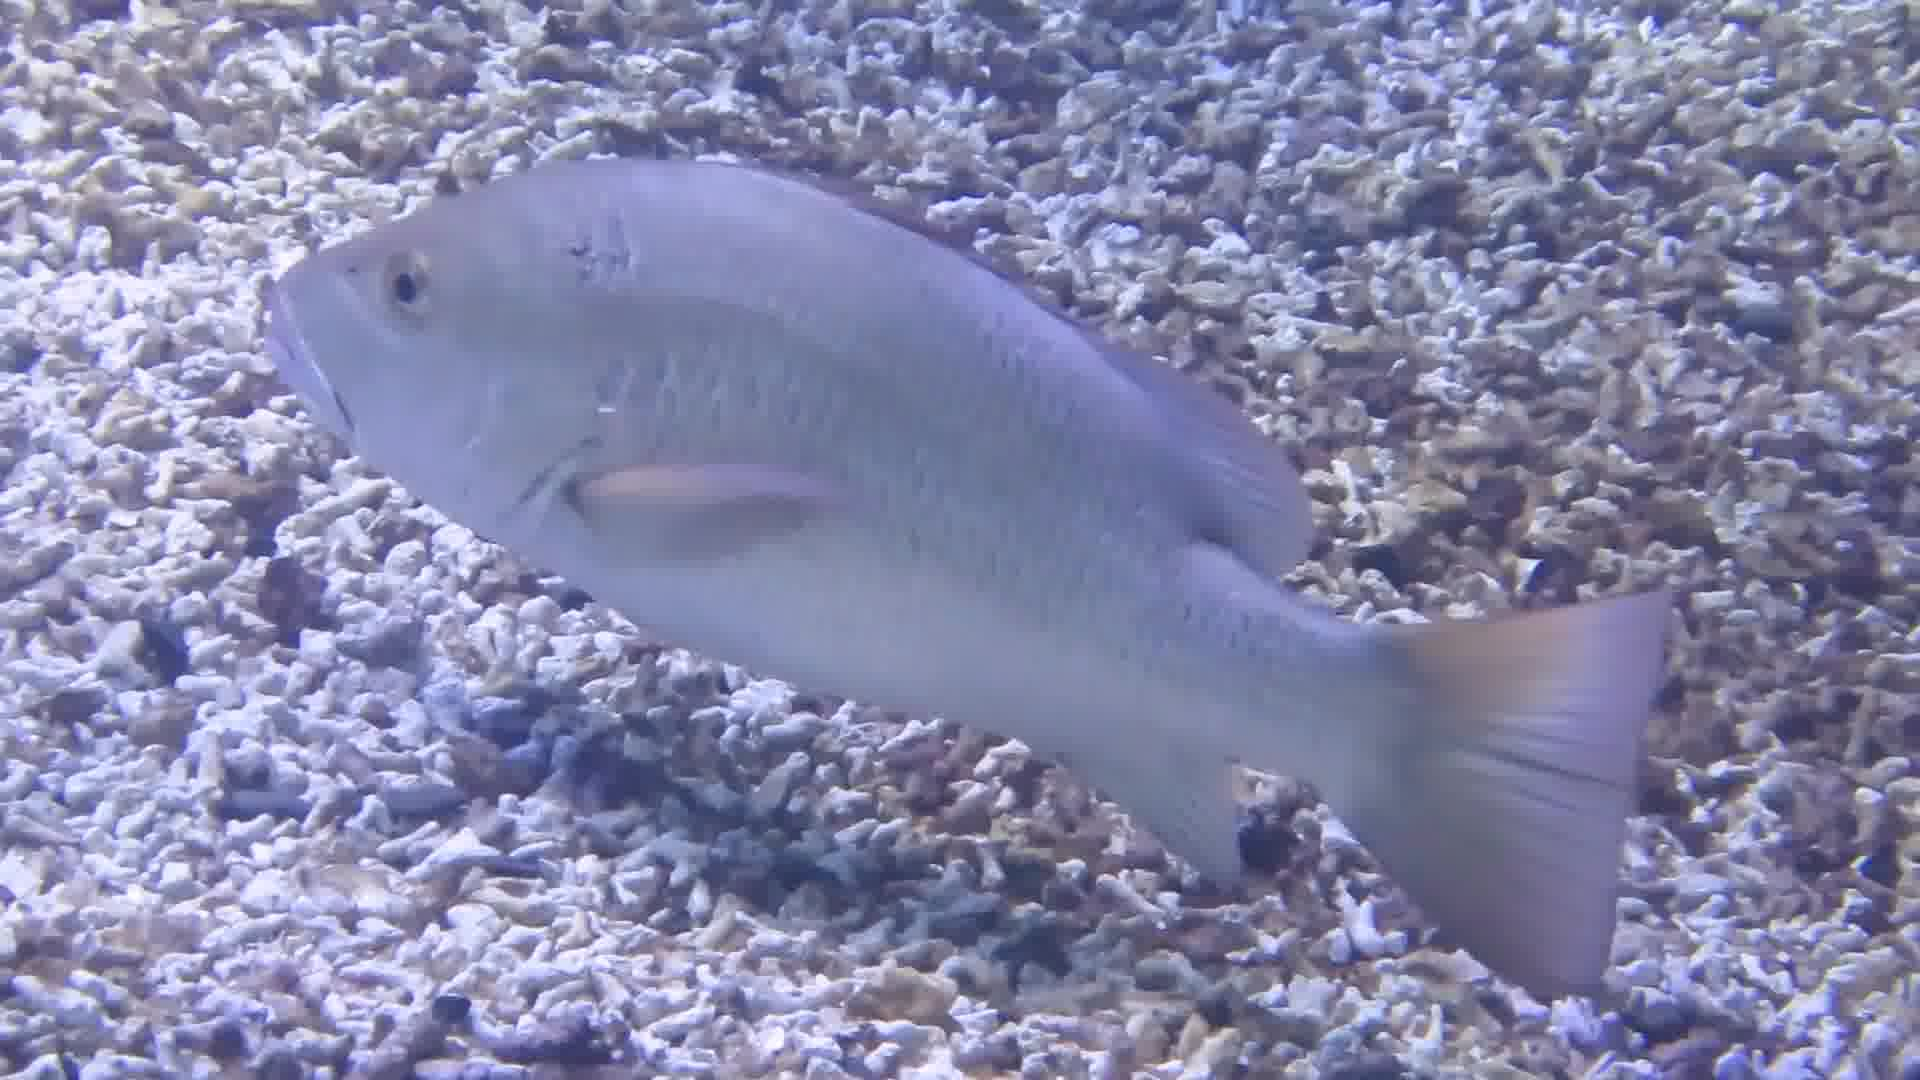Lutjanus argentimaculatus: (257, 146, 1455, 878)
